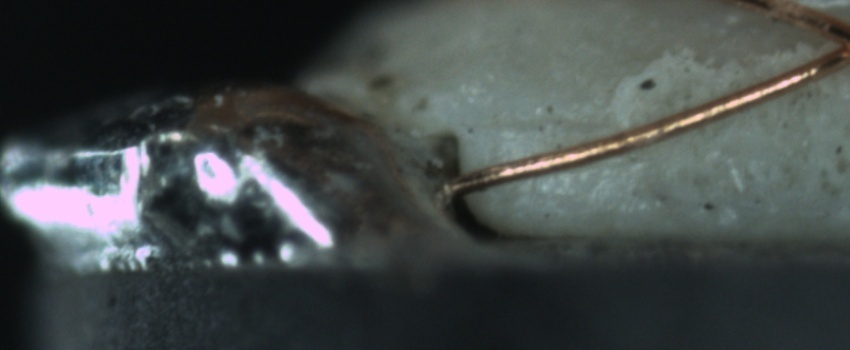CL: (798, 10, 850, 76)
DL: (480, 96, 613, 155)
